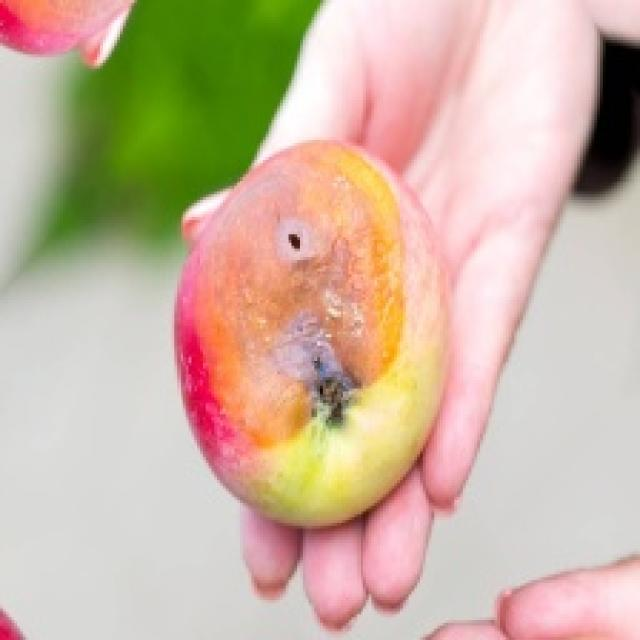apple: (177, 140, 448, 526)
